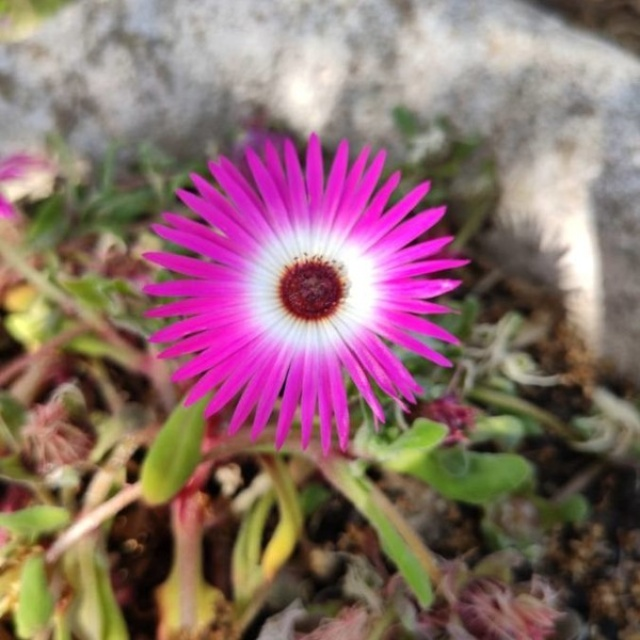obstacle: (123, 115, 476, 511)
